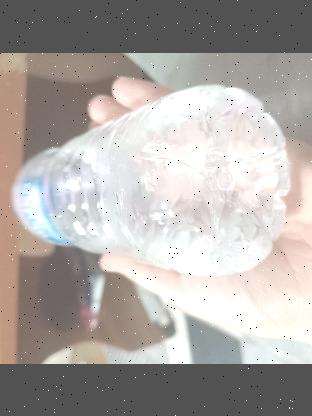Plastic Bottle: (10, 83, 296, 281)
